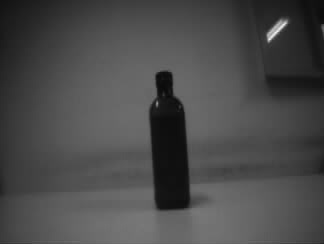Bottle: (149, 71, 191, 209)
